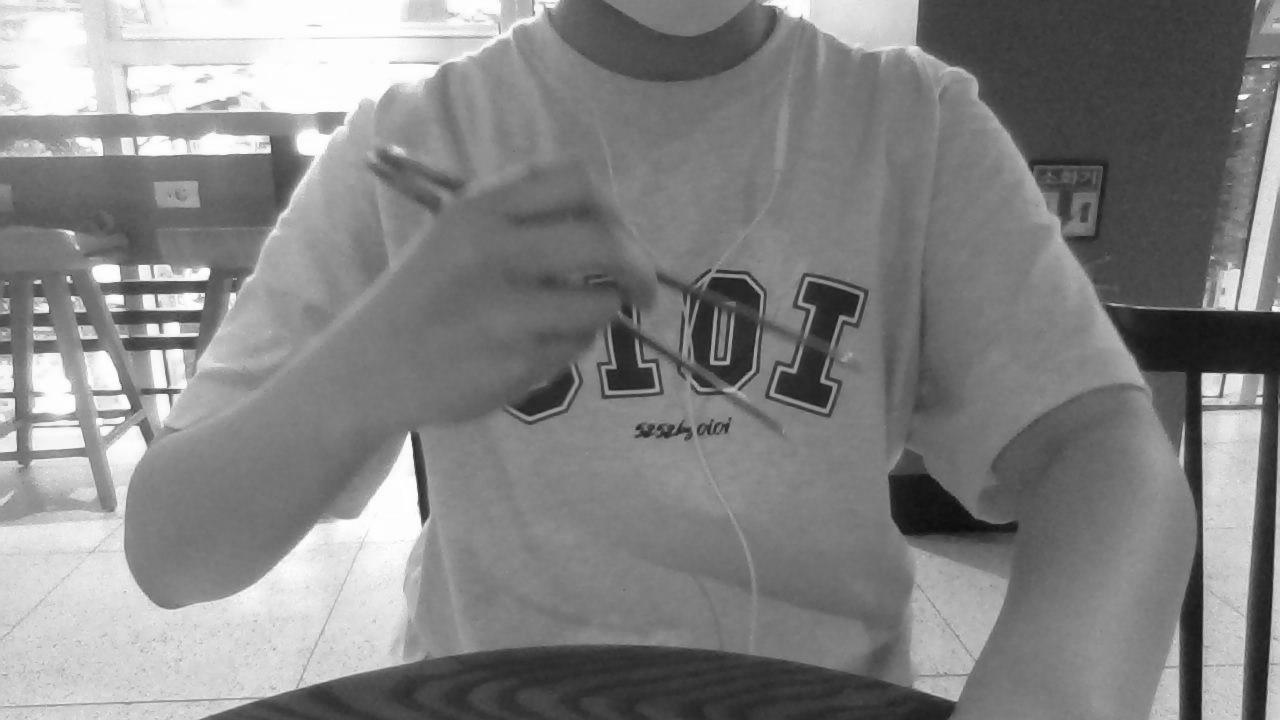chopstick: (356, 150, 790, 439), (377, 144, 862, 374)
hand: (362, 158, 659, 417)
